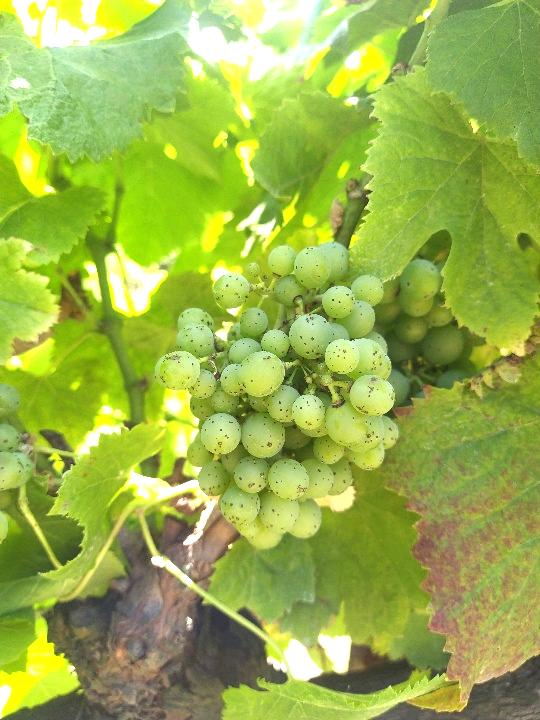grape: (153, 240, 402, 551)
